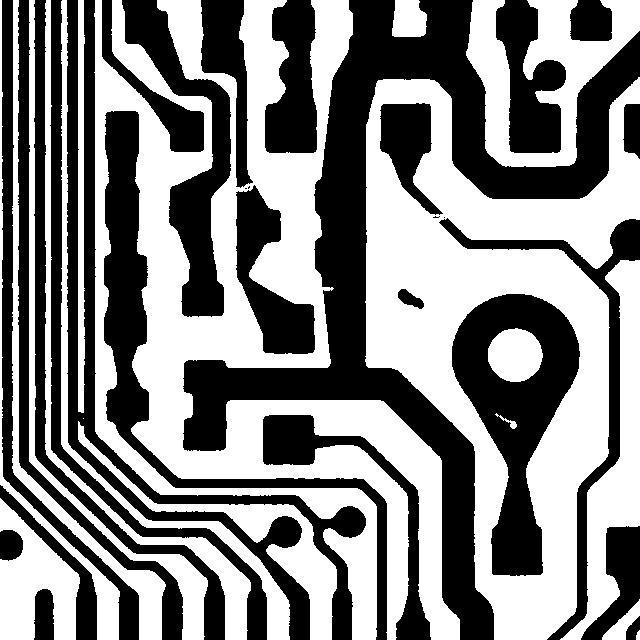copper: (388, 279, 433, 318)
mousebite: (308, 277, 343, 300)
open: (224, 170, 265, 201), (420, 203, 458, 231)
pin-hole: (485, 403, 526, 438)
short: (63, 402, 96, 435)
